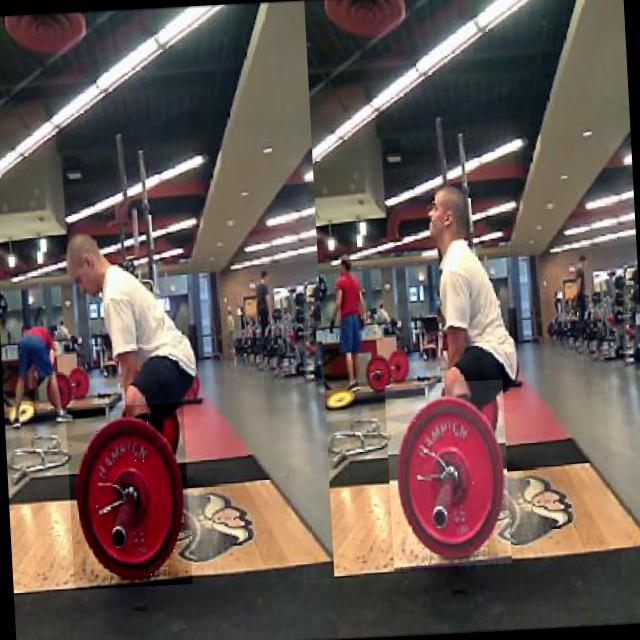barbell: (386, 381, 514, 573), (67, 403, 194, 591)
